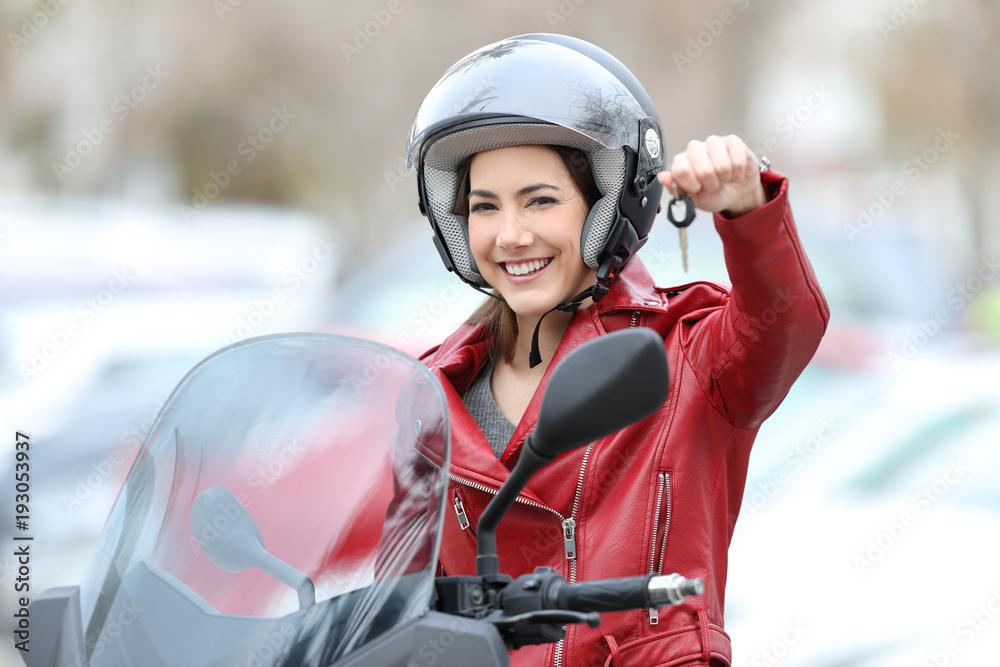helmet: (403, 31, 669, 371)
